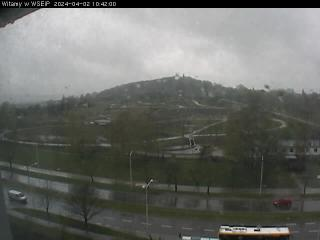bus: (216, 223, 292, 240)
car: (7, 189, 29, 204), (272, 196, 292, 208)
